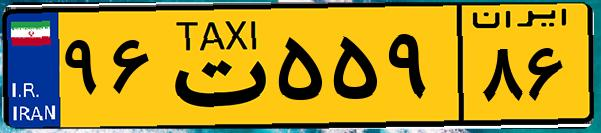5: (270, 28, 330, 110), (330, 28, 385, 110)
6: (525, 38, 570, 115), (110, 28, 158, 98)
8: (475, 38, 525, 113)
9: (385, 28, 445, 110), (57, 26, 110, 100)
ت: (158, 12, 270, 120)
